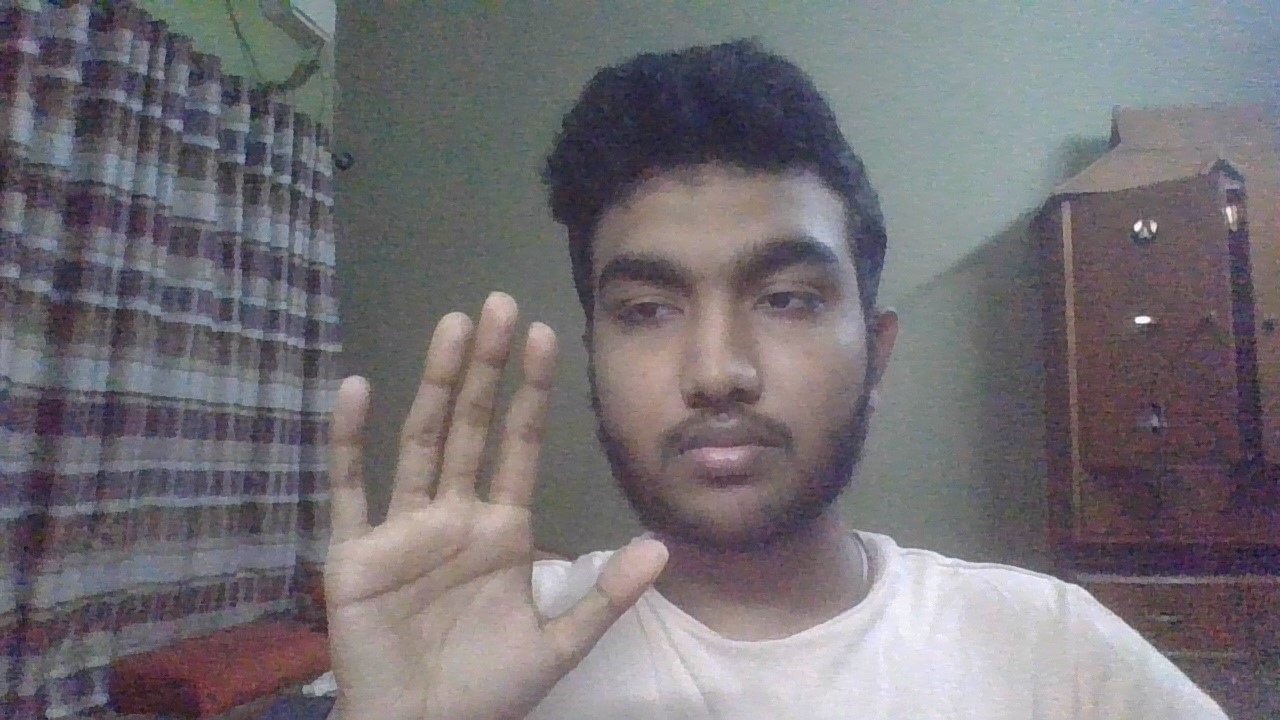Hello: (310, 274, 671, 720)
